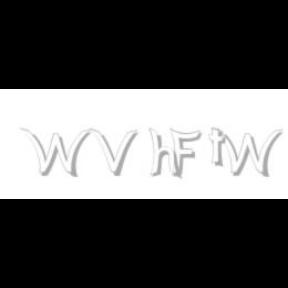F: (169, 128, 201, 178)
V: (90, 128, 138, 176)
W: (19, 128, 91, 178), (211, 128, 283, 178)
h: (148, 128, 183, 180)
t: (208, 128, 230, 168)
